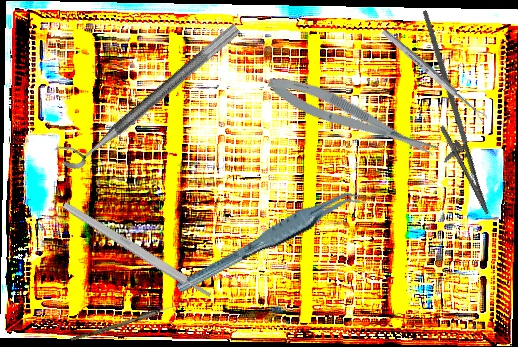Fixation Ring: (52, 9, 242, 175)
Micro Scissor: (263, 66, 441, 169)
Needle Holder: (384, 9, 513, 222)
Scalpel Handle: (61, 200, 213, 301)
Surgical Spoon: (380, 27, 489, 124), (70, 297, 190, 345)
Tissue Forceps: (167, 185, 374, 295)
